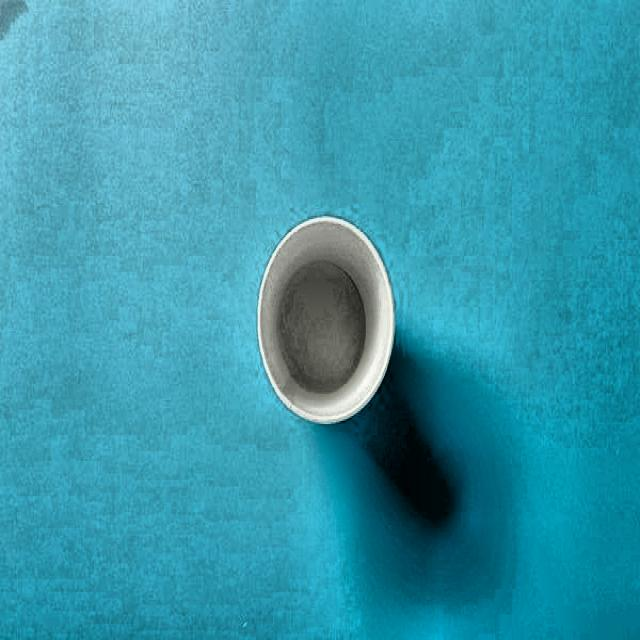Cup: (244, 209, 412, 439)
